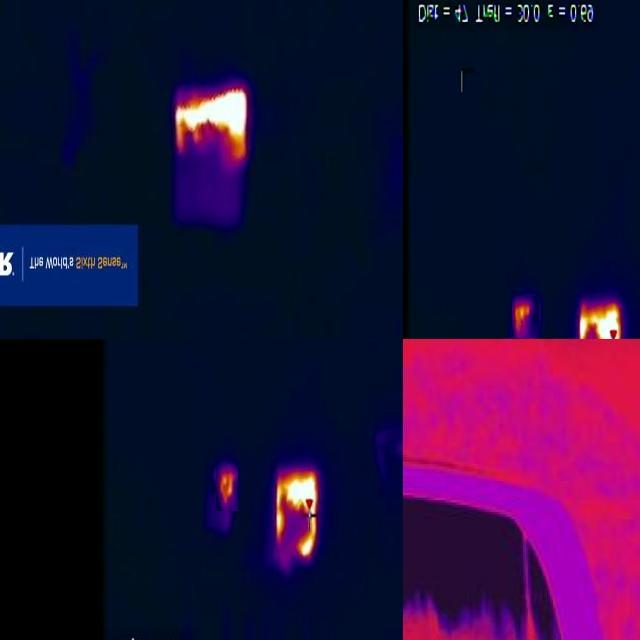fire: (173, 86, 251, 164), (273, 468, 320, 560), (577, 299, 622, 340), (512, 296, 539, 338), (216, 464, 238, 511)
